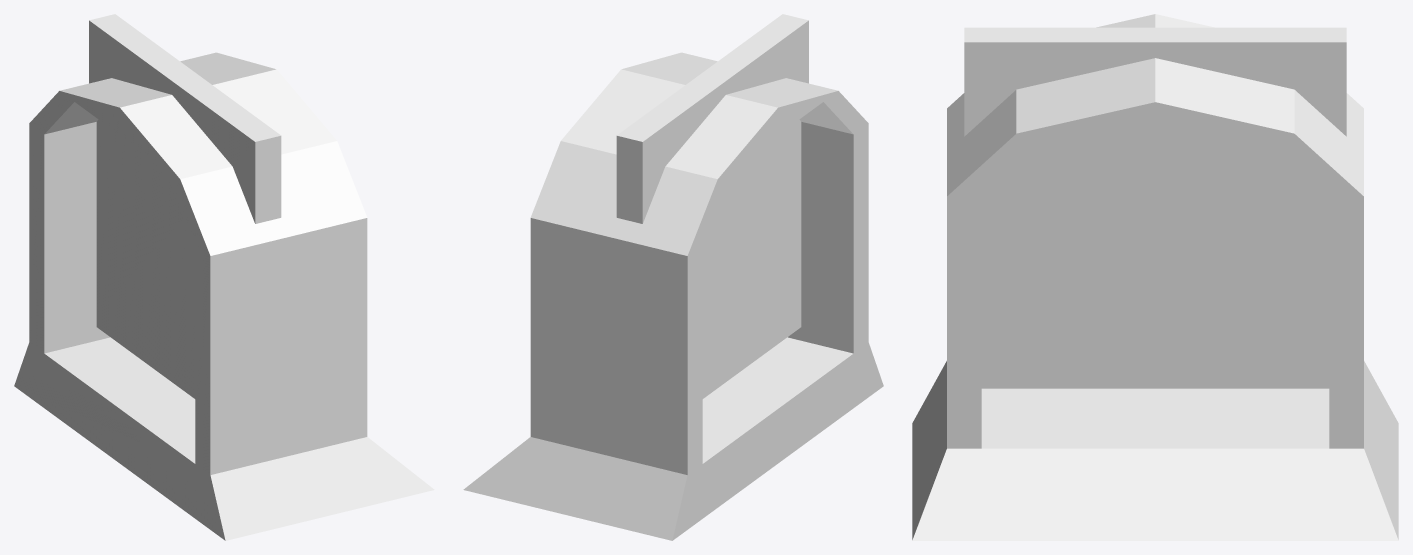
The model's file is reddot.obj.
3 renders of one model, left to right at view 1: azimuth 30°, elevation 25°; view 2: azimuth 150°, elevation 25°; view 3: azimuth 270°, elevation 25°, orthographic. The views are drawn at different scales.
Parts seen in each view (by area): view 1: rd4, scopeOverlay, rd8, rd3, rd7, rd6, rd5; view 2: rd3, scopeOverlay, rd8, rd4, rd7, rd5, rd6; view 3: scopeOverlay, rd8, rd7, rd3, rd4, rd5, rd6.
Boxes of the visible parts, left/top/right/bottom form: rd4: left=195, top=218, right=367, bottom=474; scopeOverlay: left=89, top=14, right=281, bottom=398; rd8: left=14, top=337, right=434, bottom=540; rd3: left=29, top=122, right=109, bottom=353; rd7: left=59, top=52, right=336, bottom=179; rd6: left=165, top=141, right=367, bottom=255; rd5: left=29, top=91, right=98, bottom=134; rd3: left=530, top=218, right=702, bottom=474; scopeOverlay: left=616, top=14, right=808, bottom=398; rd8: left=463, top=337, right=883, bottom=540; rd4: left=788, top=122, right=868, bottom=353; rd7: left=561, top=52, right=838, bottom=179; rd5: left=530, top=141, right=732, bottom=255; rd6: left=799, top=91, right=868, bottom=134; scopeOverlay: left=964, top=27, right=1346, bottom=388; rd8: left=912, top=361, right=1398, bottom=540; rd7: left=1016, top=14, right=1294, bottom=133; rd3: left=1329, top=196, right=1363, bottom=448; rd4: left=947, top=196, right=981, bottom=448; rd5: left=1260, top=90, right=1363, bottom=196; rd6: left=947, top=90, right=1050, bottom=196.
Size of the model in its own units: 0.4 by 0.675 by 0.7.
